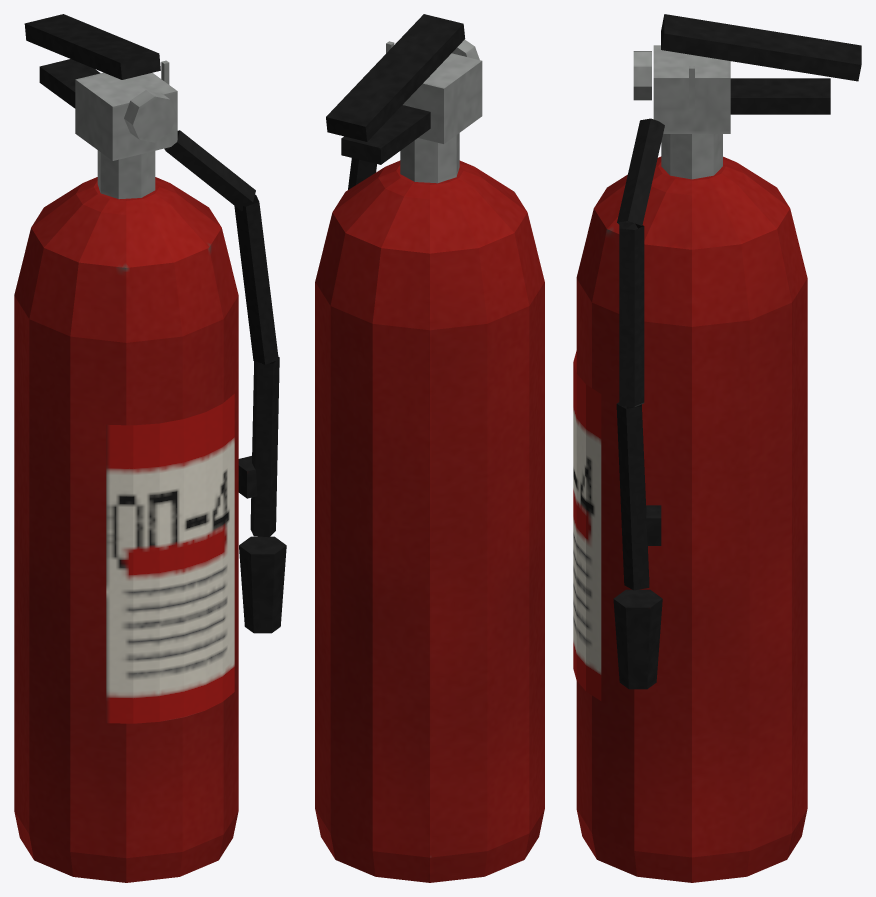
Rendered from FireExtinguisher.fbx.
The picture shows the model from 3 angles, left to right: view 1: azimuth 30°, elevation 25°; view 2: azimuth 150°, elevation 25°; view 3: azimuth 270°, elevation 25°; orthographic projection. The views are drawn at different scales.
Parts seen in each view (by area): view 1: огнетушитель; view 2: огнетушитель; view 3: огнетушитель.
Part boxes in pixels (left/top/right/bottom): огнетушитель: left=14, top=14, right=286, bottom=882; огнетушитель: left=315, top=14, right=544, bottom=882; огнетушитель: left=573, top=14, right=861, bottom=882.
Bounding box in the file's own units: 0.1739 × 0.5822 × 0.1871.
Materials: 1 (1 with a texture image).
